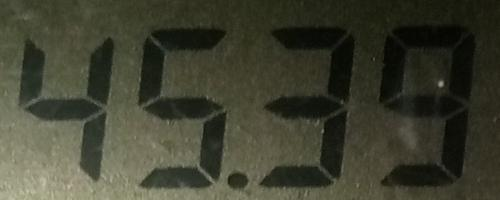.: (226, 171, 249, 192)
